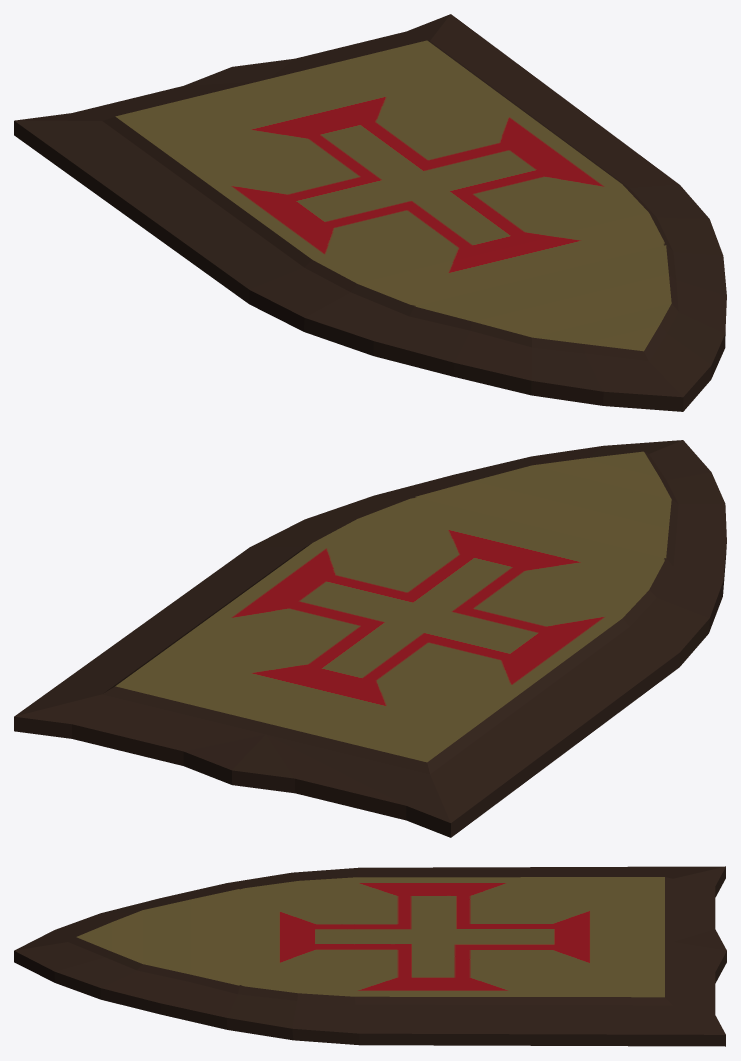
The model's file is escudo-portugues-2.fbx.
3 views of the same model, one above another, from view 1: azimuth 30°, elevation 25°; view 2: azimuth 150°, elevation 25°; view 3: azimuth 270°, elevation 25° (orthographic). The views are drawn at different scales.
Visible parts, largest first — view 1: Cube; view 2: Cube; view 3: Cube.
Boxes of the visible parts, x1=… form: Cube: x1=14, y1=14, x2=726, y2=411; Cube: x1=14, y1=440, x2=726, y2=837; Cube: x1=14, y1=866, x2=726, y2=1046.
Bounding box in the file's own units: 350 × 24.84 × 627.
